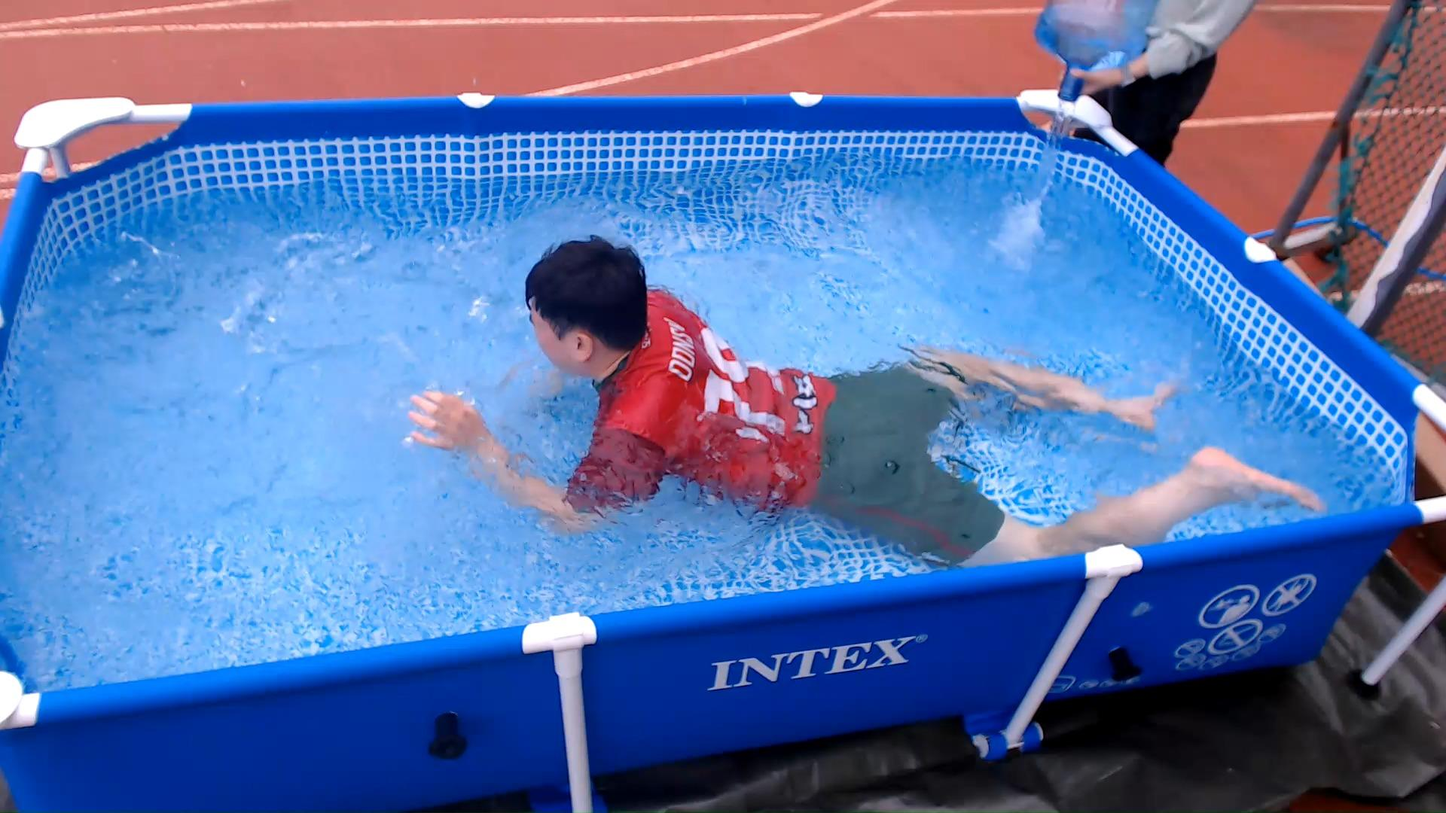Drowning: (360, 202, 1265, 570)
Person-out-of-water: (1053, 0, 1226, 170)
